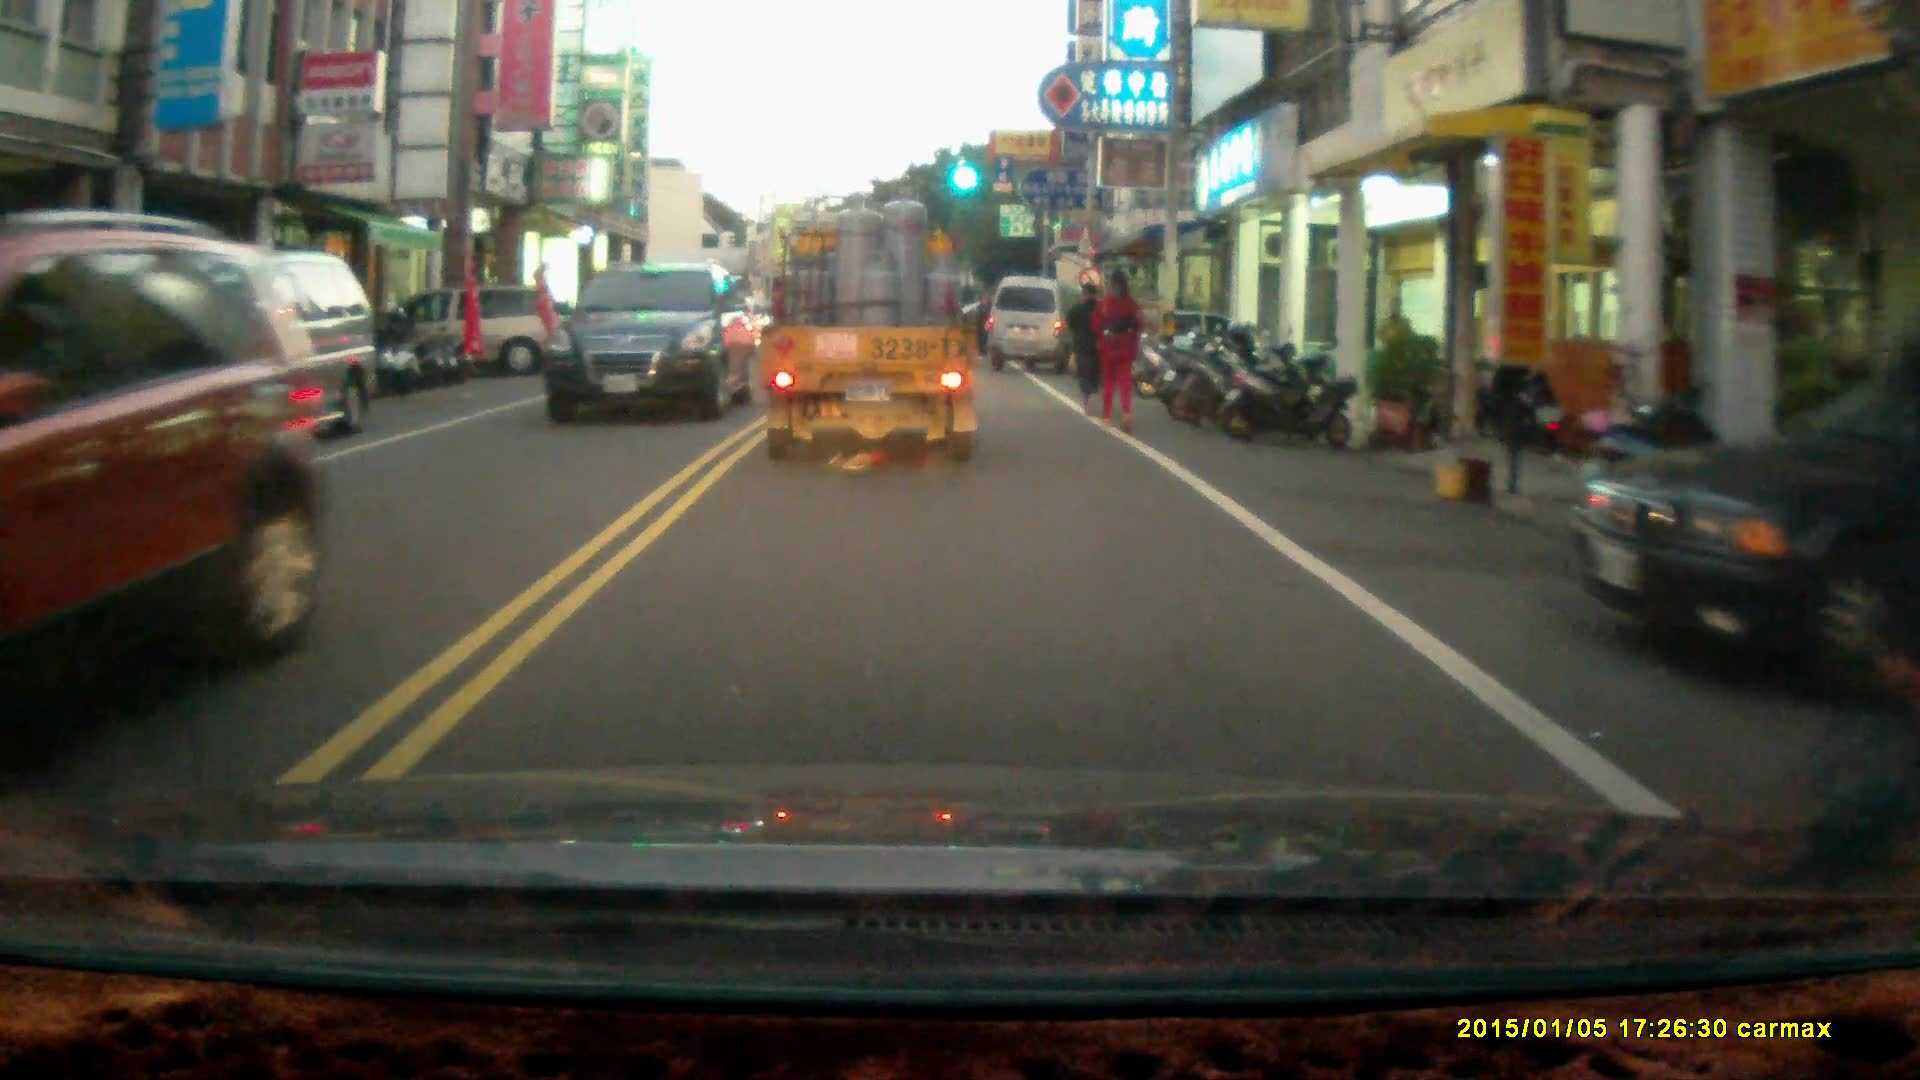pedestrian: (1090, 265, 1144, 432), (1063, 273, 1108, 411), (1373, 290, 1413, 394)
vehicle: (1, 218, 345, 734), (1559, 387, 1920, 672), (755, 177, 986, 466), (89, 255, 376, 469), (542, 258, 758, 425), (349, 286, 587, 375), (987, 274, 1088, 376)
